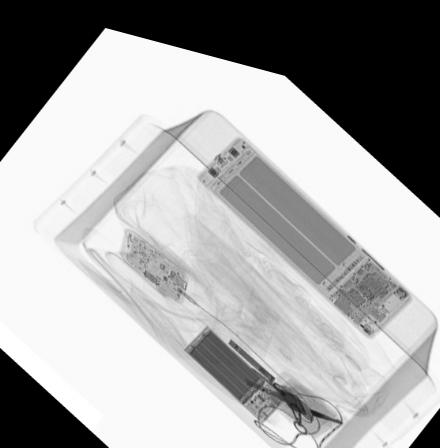Powerbank: (181, 309, 287, 409)
